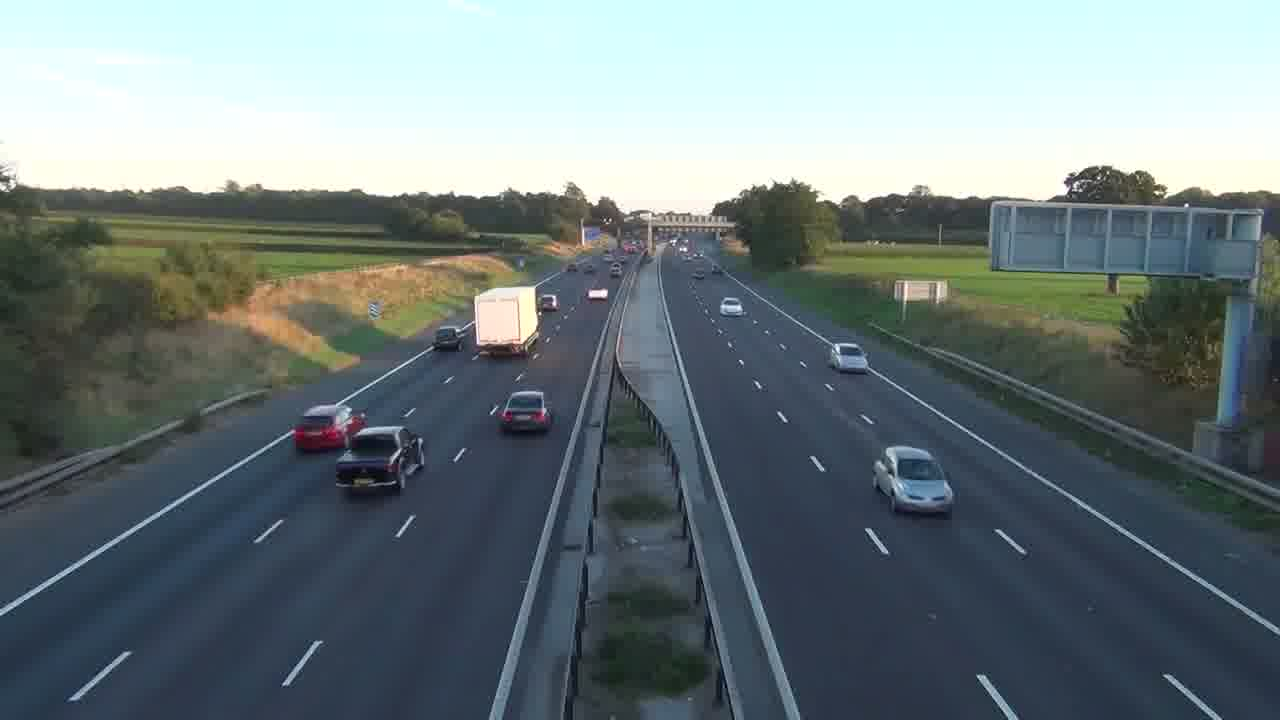car: (335, 424, 426, 497), (872, 445, 956, 517), (292, 403, 365, 453), (496, 389, 552, 435), (827, 342, 869, 374), (720, 296, 744, 316)
truck: (472, 285, 539, 357)
